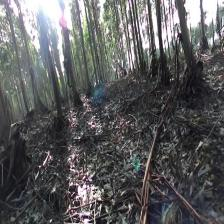trunk: (41, 24, 63, 114), (10, 26, 31, 113), (76, 5, 92, 89), (176, 3, 195, 69), (155, 3, 167, 71), (200, 7, 206, 48)
